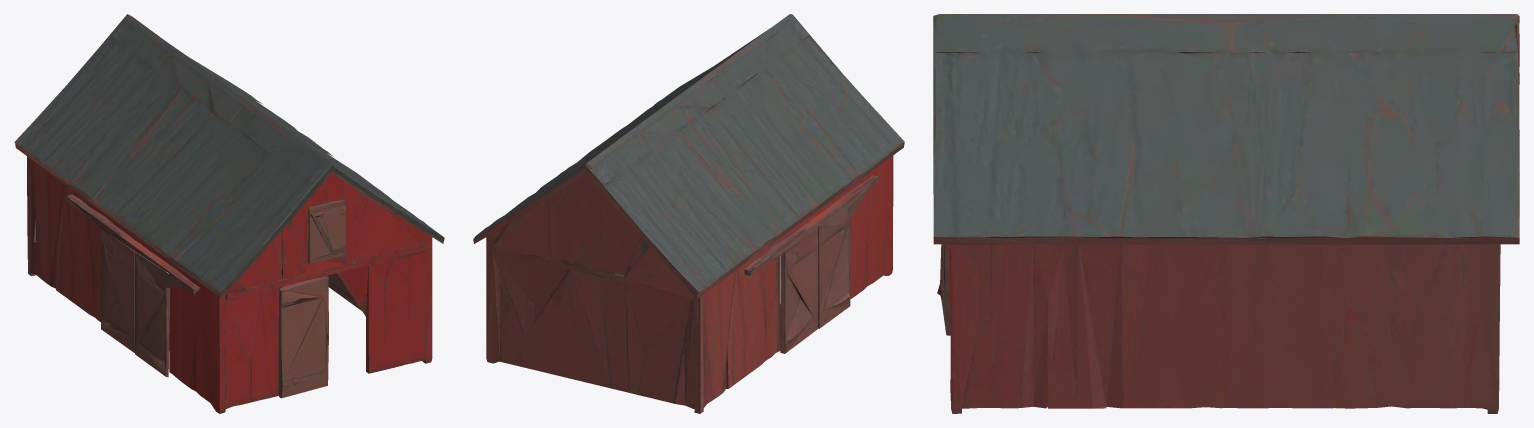
File: barn.glb
3 renders of one model, left to right at view 1: azimuth 30°, elevation 25°; view 2: azimuth 150°, elevation 25°; view 3: azimuth 270°, elevation 25°, orthographic. The views are drawn at different scales.
Parts seen in each view (by area): view 1: mesh_node; view 2: mesh_node; view 3: mesh_node.
Part boxes in pixels (x1=…): mesh_node: x1=14, y1=14, x2=444, y2=413; mesh_node: x1=473, y1=14, x2=904, y2=413; mesh_node: x1=933, y1=14, x2=1519, y2=413.
Size of the model in its own units: 1.21 by 1.17 by 1.9.
Materials: 1 (1 with a texture image).
